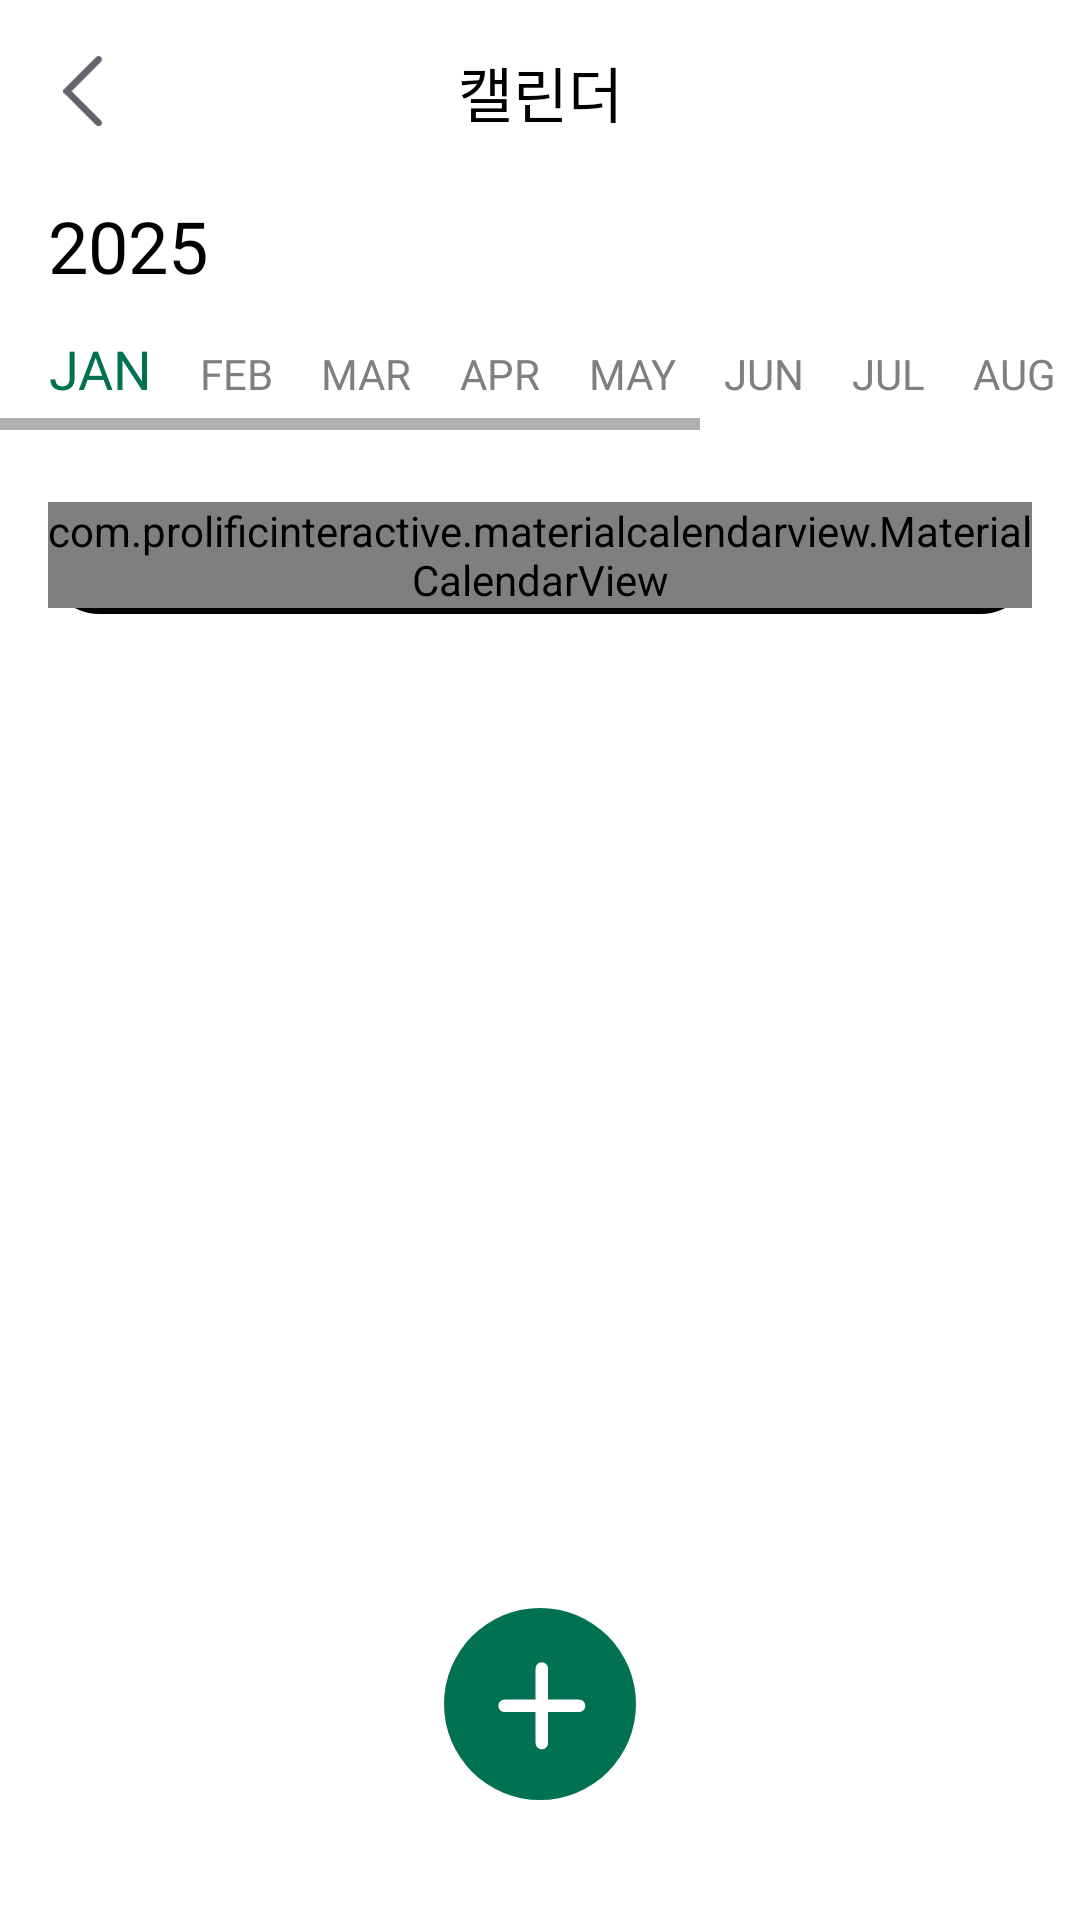

Named icons in this screenshot (1080 x 1920) and their centers, (x=x, y=y):
add: (x=540, y=1704)
뒤로가기: (x=83, y=91)
